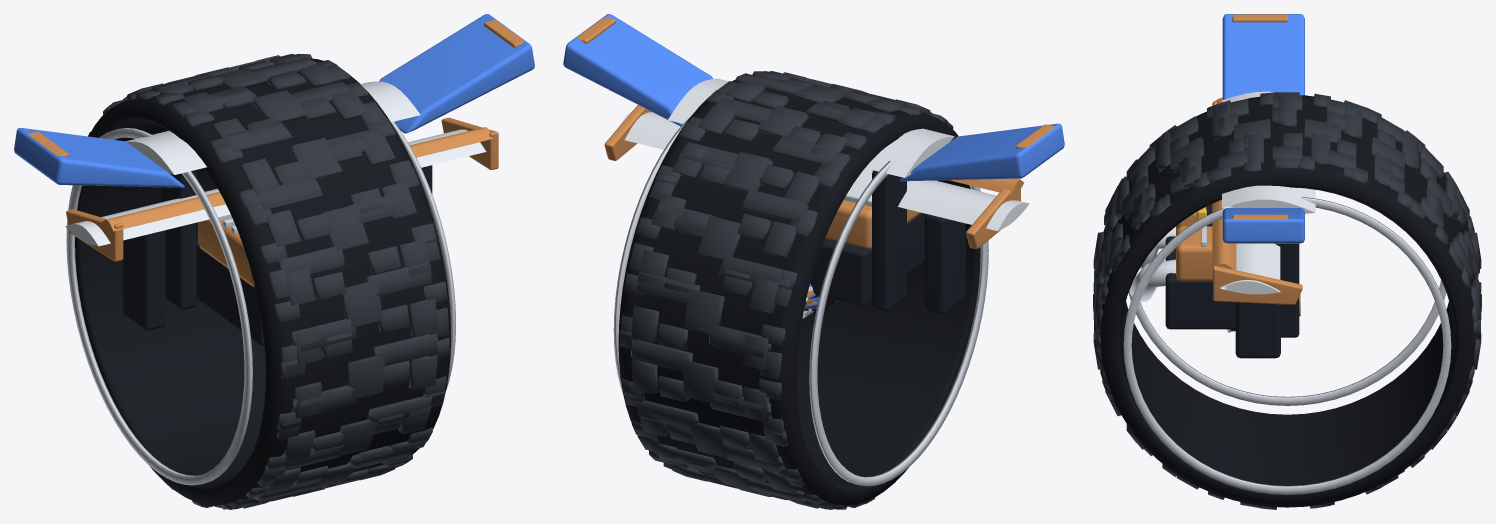
Rendered from parts_workshop.glb.
The picture shows the model from 3 angles, left to right: view 1: azimuth 30°, elevation 25°; view 2: azimuth 150°, elevation 25°; view 3: azimuth 270°, elevation 25°; orthographic projection. The views are drawn at different scales.
Visible parts, largest first — view 1: Tire_Touring_PartRubber, Tire_Winter_WorkshopTread, Wing_Jump_WorkshopEnamel, Tire_Gravel_WorkshopTread, Tire_Touring_WorkshopTread, Tire_Sand_WorkshopTread, Tire_Touring_PartMetal, Wing_Tail_WorkshopCopper, Wing_Tail_PartDark, Wing_Tail_PartPaint, Wing_Jump_PartPaint, Wing_Jump_PartDark (+3 smaller); view 2: Tire_Touring_PartRubber, Tire_Winter_WorkshopTread, Tire_Sand_WorkshopTread, Wing_Jump_WorkshopEnamel, Tire_Gravel_WorkshopTread, Tire_Touring_WorkshopTread, Tire_Touring_PartMetal, Wing_Tail_PartPaint, Wing_Jump_PartDark, Wing_Tail_PartDark, Engine_Torque_PartDark, Wing_Jump_PartPaint (+3 smaller); view 3: Tire_Touring_PartRubber, Tire_Touring_PartMetal, Wing_Jump_WorkshopEnamel, Tire_Winter_WorkshopTread, Tire_Touring_WorkshopTread, Tire_Sand_WorkshopTread, Tire_Gravel_WorkshopTread, Engine_Torque_PartDark, Wing_Tail_WorkshopCopper, Wing_Tail_PartDark, Wing_Jump_PartPaint, Wing_Tail_PartPaint (+4 smaller).
Boxes of the visible parts, bbox=[...] form: Tire_Touring_PartRubber: bbox=[75, 58, 450, 505]; Tire_Winter_WorkshopTread: bbox=[88, 54, 449, 509]; Wing_Jump_WorkshopEnamel: bbox=[14, 14, 534, 187]; Tire_Gravel_WorkshopTread: bbox=[110, 54, 448, 508]; Tire_Touring_WorkshopTread: bbox=[127, 54, 437, 509]; Tire_Sand_WorkshopTread: bbox=[122, 55, 437, 509]; Tire_Touring_PartMetal: bbox=[66, 121, 455, 485]; Wing_Tail_WorkshopCopper: bbox=[66, 117, 498, 261]; Wing_Tail_PartDark: bbox=[122, 165, 432, 330]; Wing_Tail_PartPaint: bbox=[65, 129, 486, 246]; Wing_Jump_PartPaint: bbox=[126, 81, 420, 174]; Wing_Jump_PartDark: bbox=[160, 170, 196, 309]; Tire_Touring_PartRubber: bbox=[618, 79, 980, 505]; Tire_Winter_WorkshopTread: bbox=[620, 73, 947, 509]; Tire_Sand_WorkshopTread: bbox=[631, 72, 932, 509]; Wing_Jump_WorkshopEnamel: bbox=[563, 14, 1064, 181]; Tire_Gravel_WorkshopTread: bbox=[620, 71, 953, 508]; Tire_Touring_WorkshopTread: bbox=[631, 71, 930, 509]; Tire_Touring_PartMetal: bbox=[613, 116, 988, 486]; Wing_Tail_PartPaint: bbox=[618, 111, 1029, 231]; Wing_Jump_PartDark: bbox=[872, 170, 906, 310]; Wing_Tail_PartDark: bbox=[924, 214, 965, 313]; Engine_Torque_PartDark: bbox=[810, 213, 925, 305]; Wing_Jump_PartPaint: bbox=[668, 78, 954, 177]; Tire_Touring_PartRubber: bbox=[1099, 95, 1475, 507]; Tire_Touring_PartMetal: bbox=[1123, 197, 1451, 494]; Wing_Jump_WorkshopEnamel: bbox=[1222, 14, 1304, 243]; Tire_Winter_WorkshopTread: bbox=[1094, 92, 1480, 509]; Tire_Touring_WorkshopTread: bbox=[1093, 95, 1481, 495]; Tire_Sand_WorkshopTread: bbox=[1094, 96, 1480, 398]; Tire_Gravel_WorkshopTread: bbox=[1093, 92, 1481, 508]; Engine_Torque_PartDark: bbox=[1165, 204, 1235, 329]; Wing_Tail_WorkshopCopper: bbox=[1212, 97, 1302, 304]; Wing_Tail_PartDark: bbox=[1235, 264, 1280, 358]; Wing_Jump_PartPaint: bbox=[1222, 91, 1315, 213]; Wing_Tail_PartPaint: bbox=[1220, 243, 1280, 294].
Bounding box in the file's own units: 0.9334 × 0.7469 × 0.7312.
